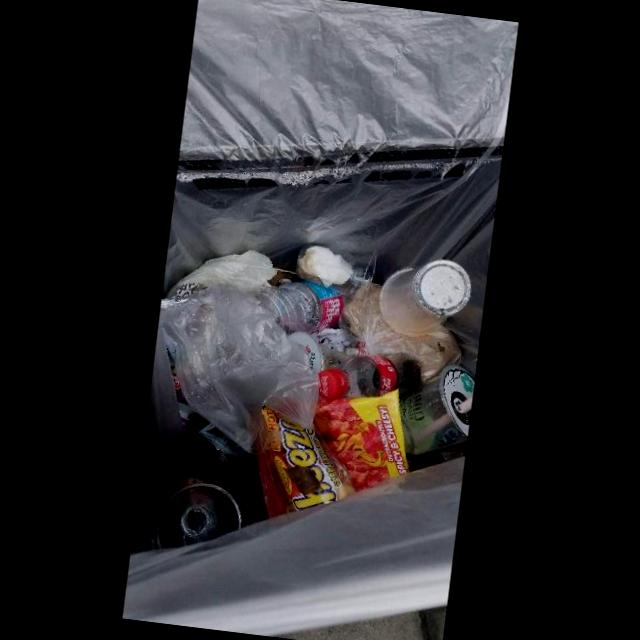bao_bi_thuc_pham: (256, 389, 409, 519)
chai_nhua_pet: (251, 281, 347, 334), (317, 352, 420, 399)
giay: (296, 245, 353, 287)
hop_nhua: (379, 259, 471, 337), (400, 365, 475, 456), (295, 245, 376, 301)
ong_hut_nhua: (425, 396, 472, 436)
tui_ni_long: (159, 284, 323, 444), (166, 249, 277, 298)
